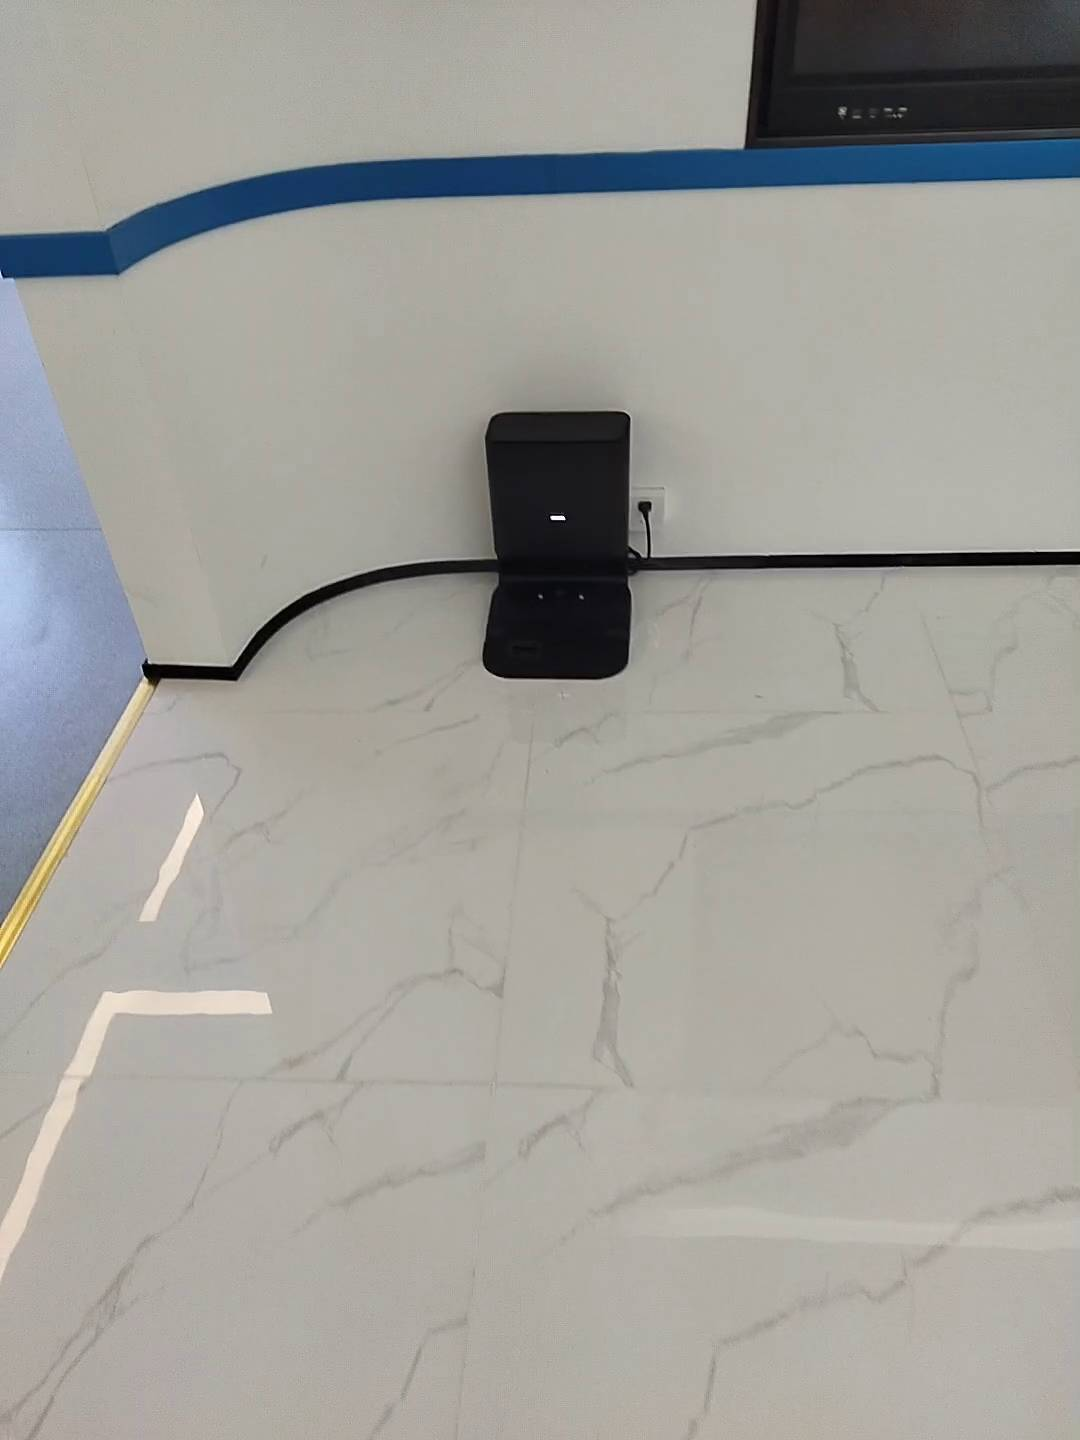dust collecting barrel: (480, 412, 633, 678)
